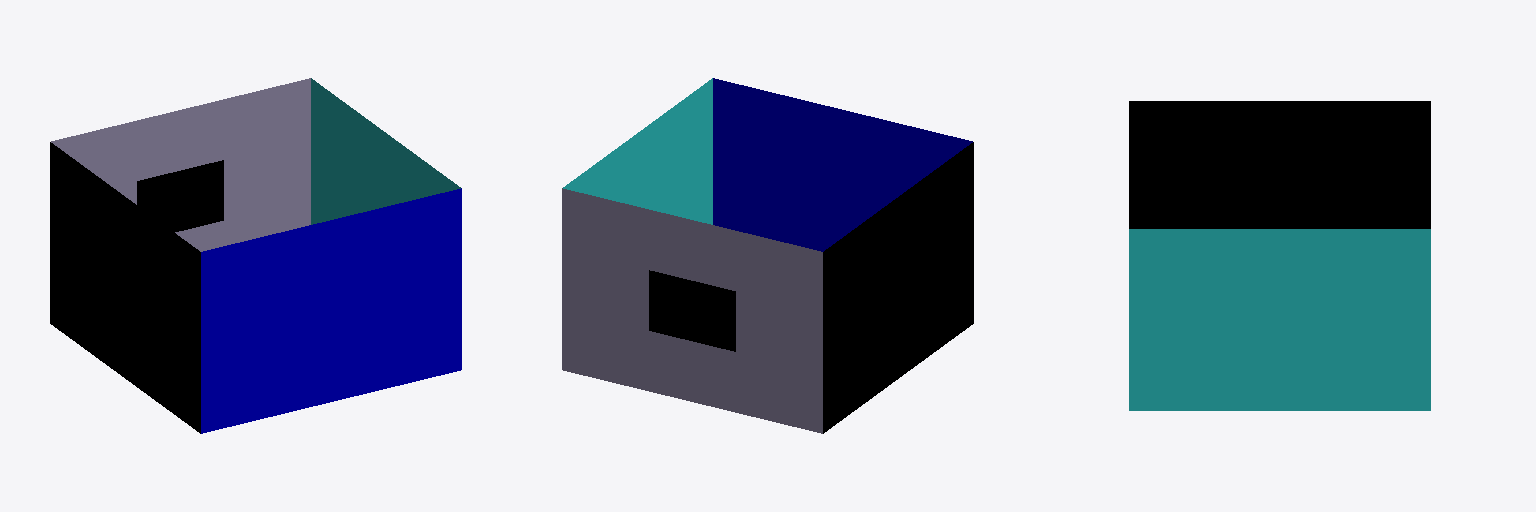
3 renders of one model, left to right at view 1: azimuth 30°, elevation 25°; view 2: azimuth 150°, elevation 25°; view 3: azimuth 270°, elevation 25°, orthographic.
Parts seen in each view (by area): view 1: wall2, wall3, Grid.002, wall4; view 2: Grid.002, wall3, wall2, wall4; view 3: wall4, wall3.
Boxes of the visible parts, x1=… form: wall2: x1=201, y1=188, x2=461, y2=433; wall3: x1=50, y1=142, x2=200, y2=433; Grid.002: x1=51, y1=78, x2=310, y2=251; wall4: x1=311, y1=78, x2=460, y2=224; Grid.002: x1=562, y1=188, x2=822, y2=433; wall3: x1=823, y1=142, x2=973, y2=433; wall2: x1=713, y1=78, x2=972, y2=251; wall4: x1=563, y1=78, x2=712, y2=224; wall4: x1=1129, y1=229, x2=1430, y2=410; wall3: x1=1129, y1=101, x2=1430, y2=228.
Size of the model in its own units: 3 by 2 by 3.